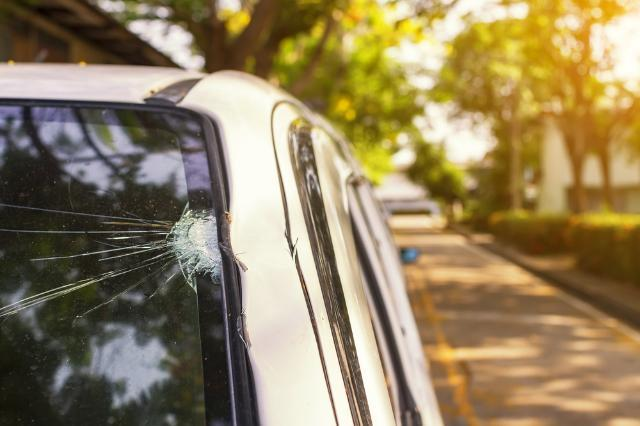dent: (230, 200, 314, 375)
glass shatter: (0, 101, 236, 426)
